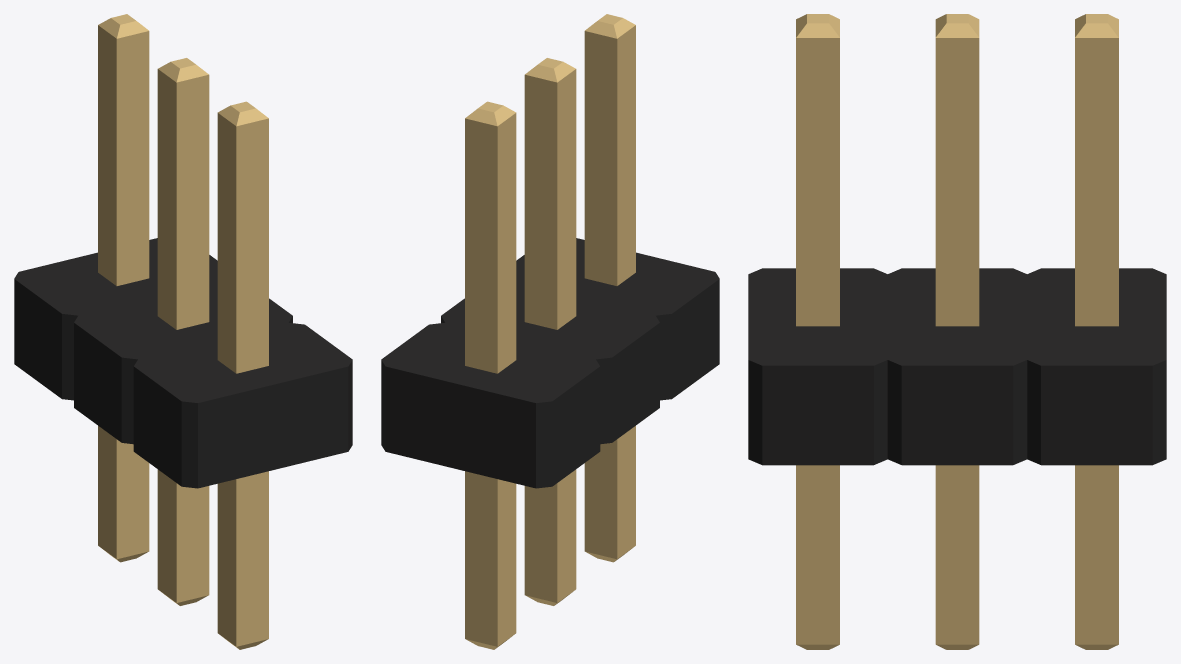
The model's file is PinHeader_1x03_P1.27mm_Vertical.glb.
3 renders of one model, left to right at view 1: azimuth 30°, elevation 25°; view 2: azimuth 150°, elevation 25°; view 3: azimuth 270°, elevation 25°, orthographic. The views are drawn at different scales.
Visible parts, largest first — view 1: =>[0:1:1:3]; view 2: =>[0:1:1:3]; view 3: =>[0:1:1:3].
Part boxes in pixels (box(x1,y1,x2,y2)): =>[0:1:1:3]: box(14, 14, 352, 649); =>[0:1:1:3]: box(381, 14, 719, 649); =>[0:1:1:3]: box(748, 14, 1166, 649).
Bounding box in the file's own units: 0.0021 × 0.0063 × 0.00381.
